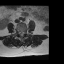CCS_normal: (20, 30, 22, 37)
LFS_normal: (24, 29, 26, 35)
LLS_normal: (22, 29, 24, 36)
RFS_normal: (17, 29, 19, 35)
RLS_normal: (19, 29, 20, 36)
